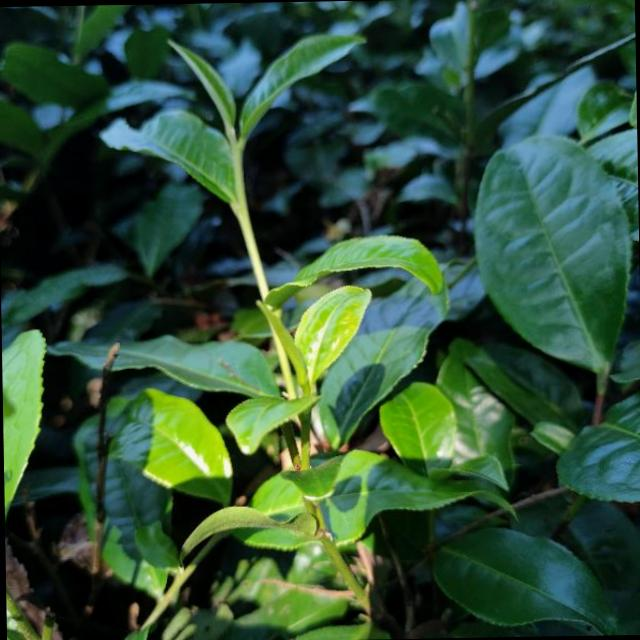Stem: (236, 207, 246, 217)
